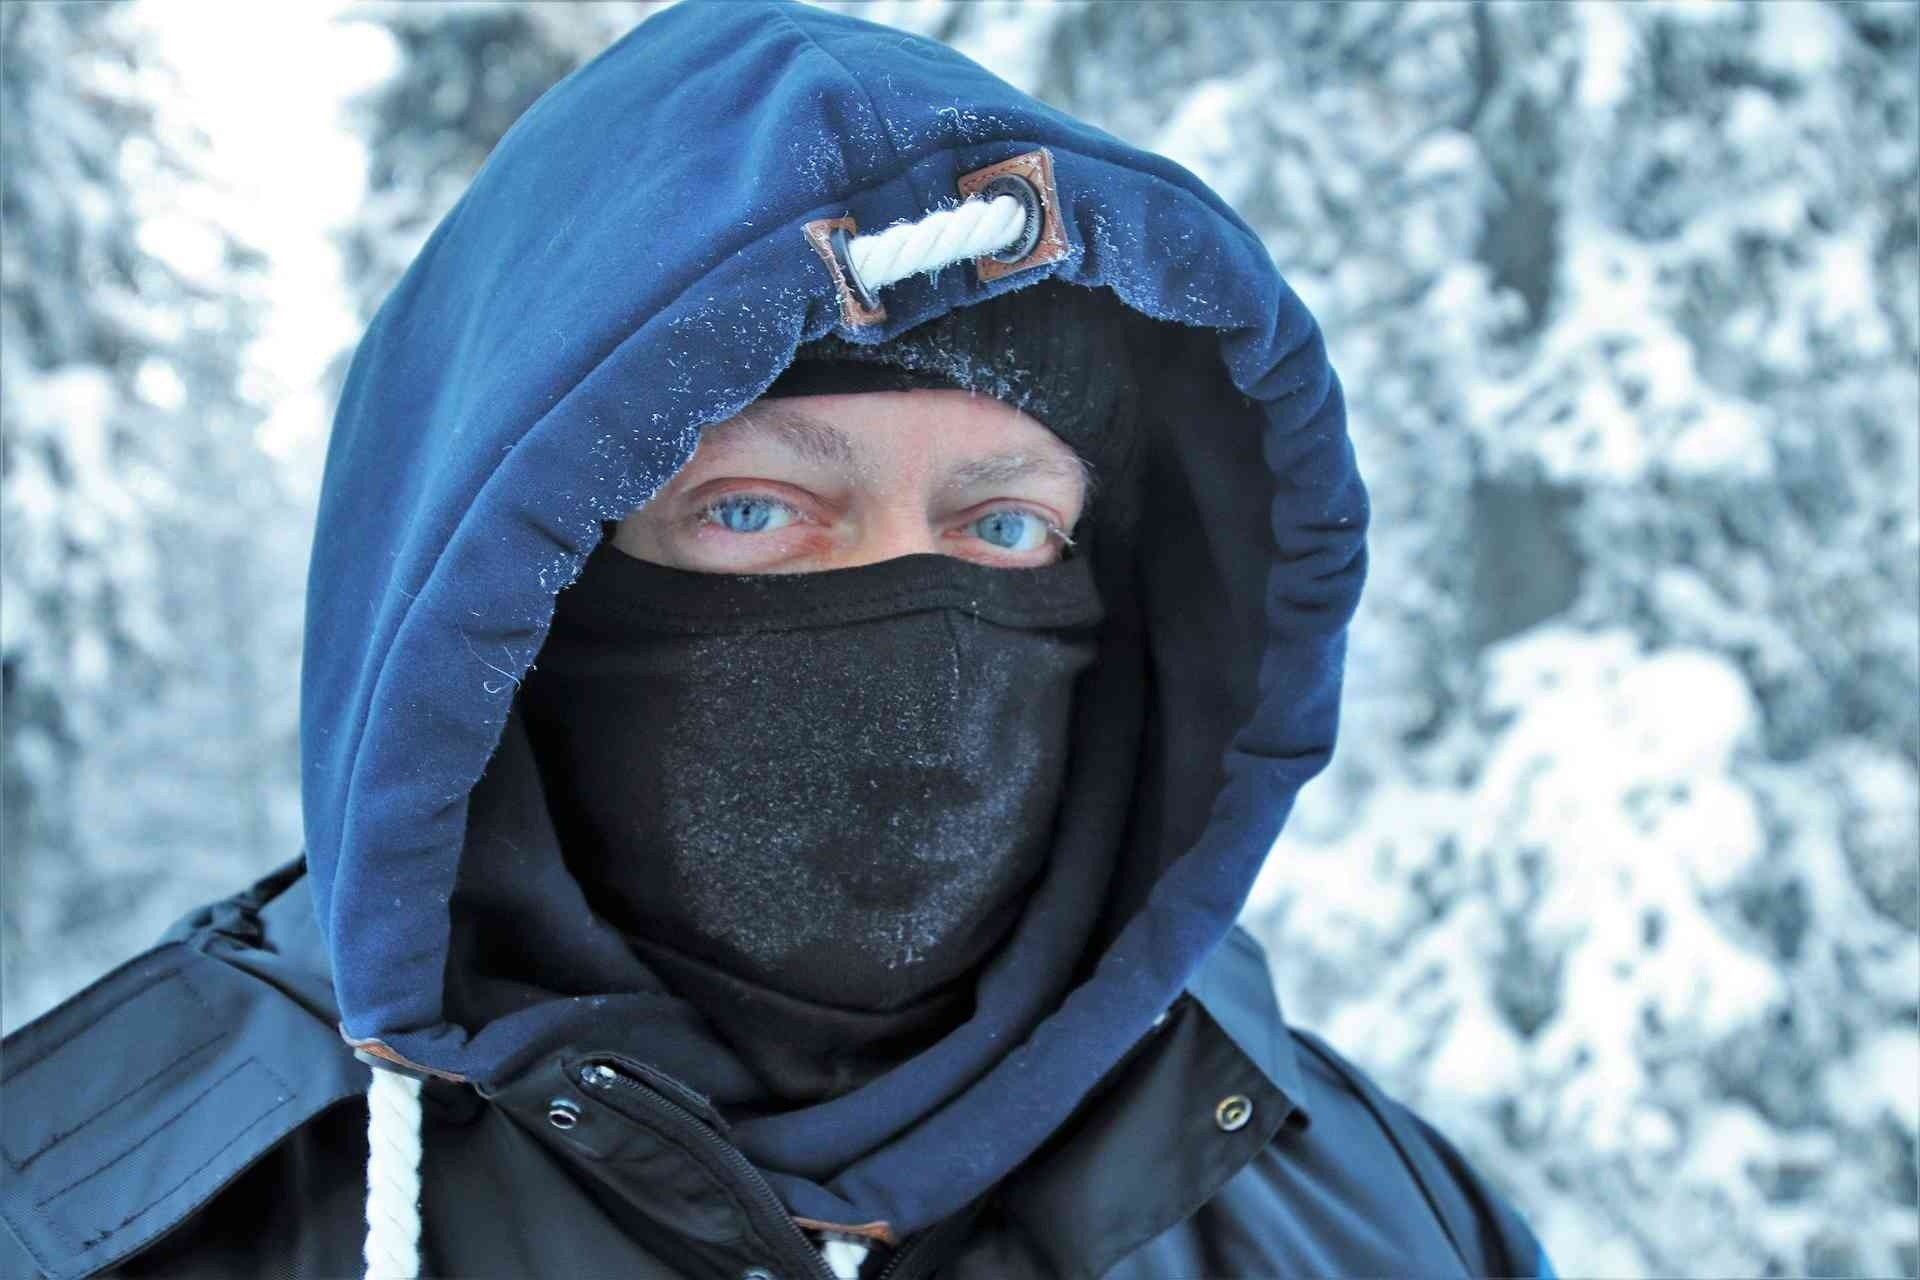face_with_mask: (551, 266, 1126, 1008)
